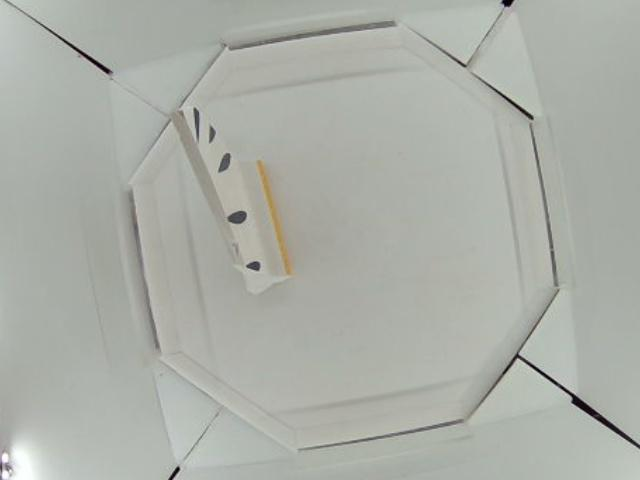China: (169, 107, 291, 294)
